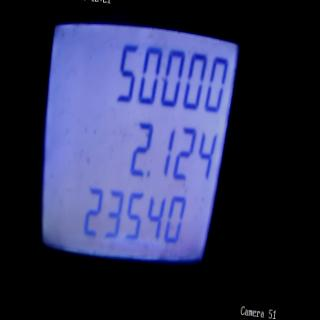screen: (16, 0, 250, 301)
